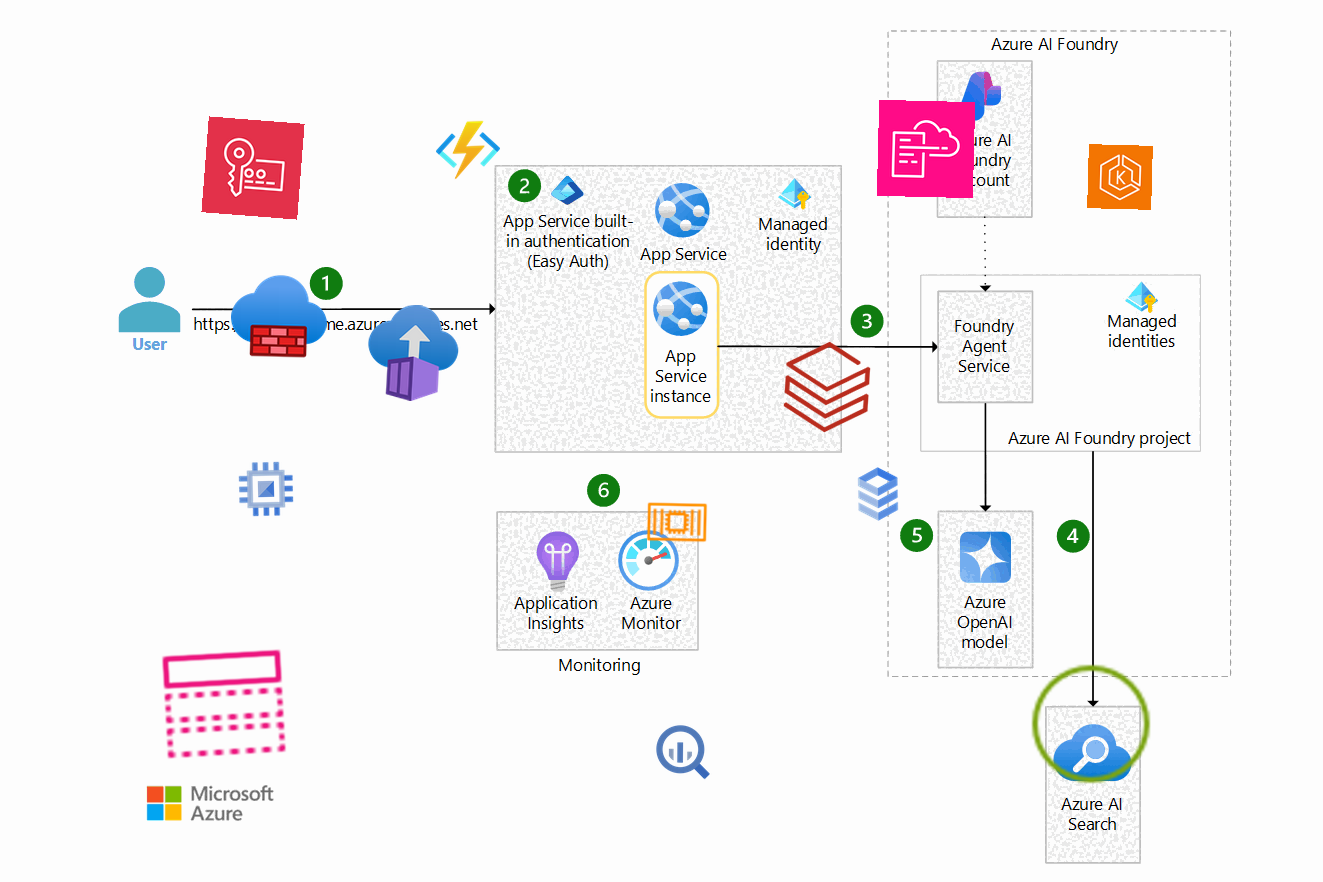aws_amazon_elastic_kubernetes_service: (1087, 144, 1153, 210)
aws_cloudformation: (876, 99, 976, 199)
aws_elastic_container_service_container_2: (644, 489, 710, 555)
aws_key_management_service: (201, 116, 305, 220)
aws_simple_notification_service_topic: (156, 636, 292, 772)
aws_simple_storage_service_object: (1026, 659, 1156, 789)
azure_container_instances: (362, 302, 464, 404)
azure_databricks: (776, 336, 878, 438)
azure_firewalls: (229, 266, 329, 366)
azure_function_apps: (434, 116, 502, 184)
gcp_bigquery: (650, 719, 716, 785)
gcp_cloud_sql: (845, 461, 911, 527)
gcp_compute_engine: (233, 456, 299, 522)
